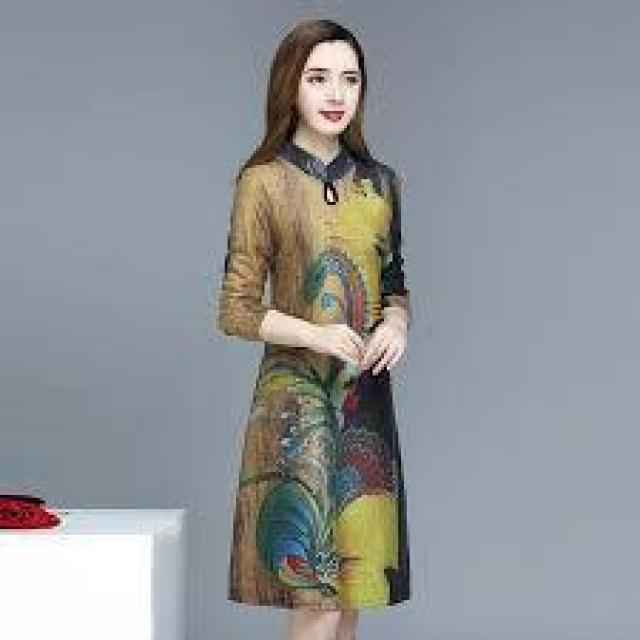dress: (216, 142, 413, 617)
